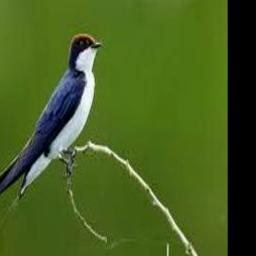Swallow: (0, 34, 104, 203)
